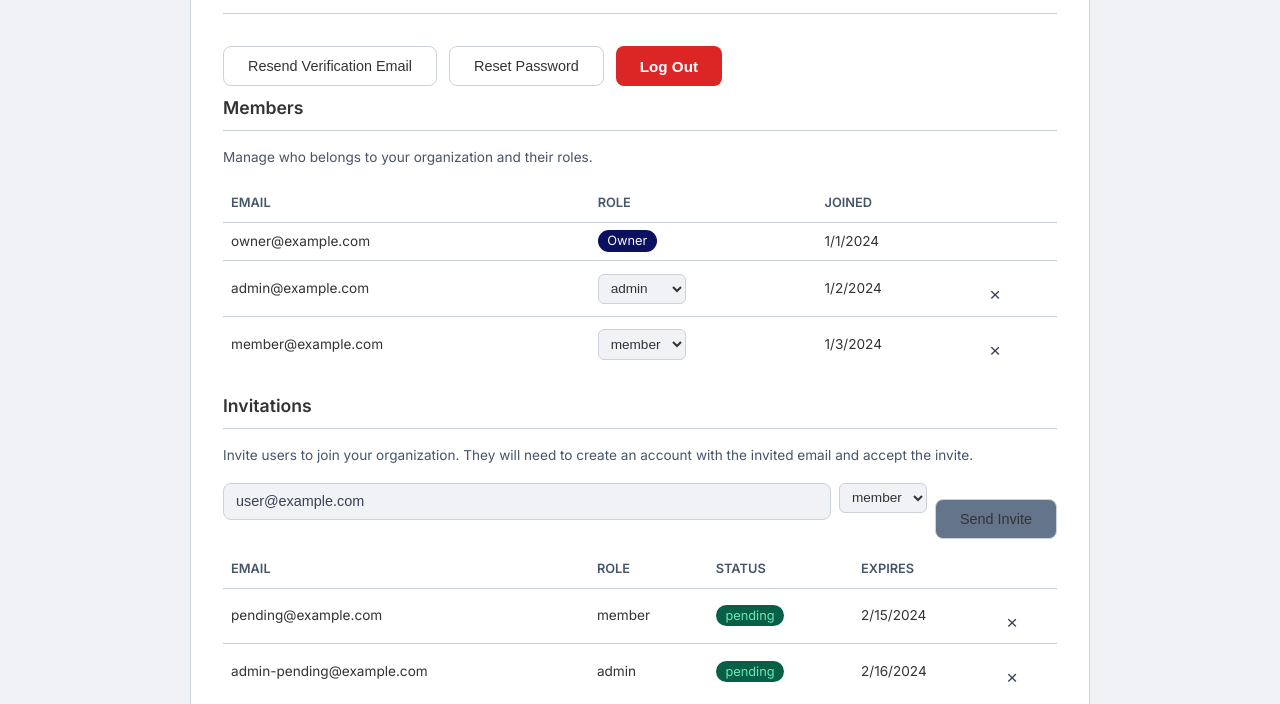
Test: SettingsPage - Member Management › Members Section - Role Management › shows error message on role update failure
(page scrolled)
expect the text "member@example.com" is shown: met, box left=223, top=317, right=590, bottom=372
Select "admin" in the dropdown in the row of "member@example.com" at {"x": 642, "y": 344}, box left=598, top=329, right=686, bottom=360
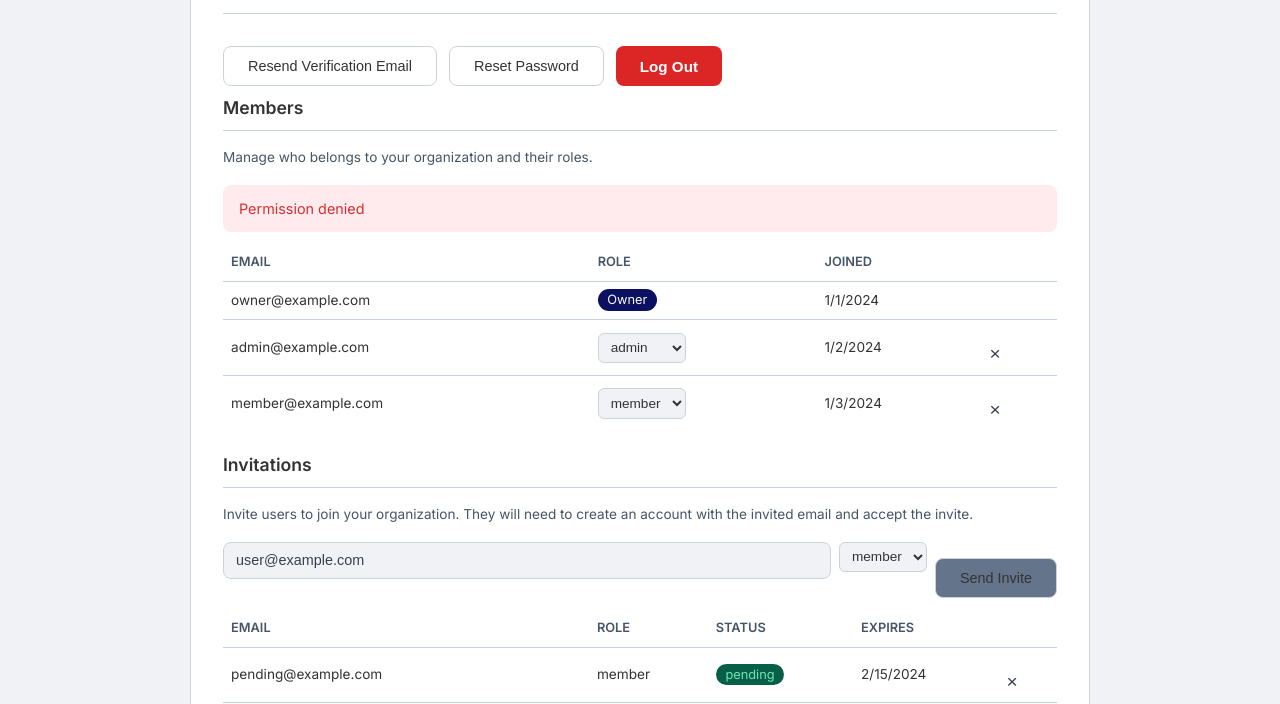
expect the text "Permission denied" is shown: met, box left=223, top=185, right=1057, bottom=232
